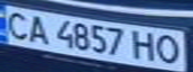4: (51, 17, 75, 50)
5: (87, 22, 109, 55)
7: (106, 25, 130, 57)
8: (69, 20, 93, 52)
A: (24, 12, 51, 45)
C: (0, 8, 33, 41)
H: (130, 28, 160, 62)
O: (151, 33, 184, 65)
